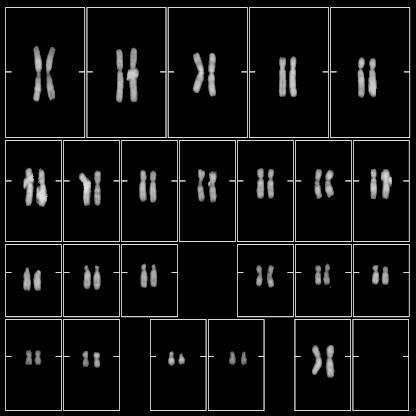1: (30, 41, 44, 106), (44, 41, 57, 106)
10: (266, 162, 278, 202), (254, 163, 266, 202)
11: (324, 162, 334, 204), (313, 164, 323, 204)
12: (380, 162, 392, 204), (369, 163, 378, 205)
13: (22, 264, 34, 294), (34, 264, 42, 294)
14: (81, 262, 93, 294), (93, 260, 104, 293)
15: (140, 260, 148, 292), (150, 260, 158, 292)
16: (254, 261, 263, 292), (266, 261, 274, 292)
17: (314, 262, 323, 290), (323, 262, 332, 290)
18: (380, 261, 391, 291), (370, 261, 380, 290)
19: (23, 346, 34, 368), (35, 346, 46, 368)
2: (127, 45, 138, 107), (114, 46, 124, 108)
20: (90, 347, 102, 372), (80, 347, 91, 372)
21: (166, 346, 176, 370), (177, 346, 187, 370)
22: (226, 345, 238, 370), (238, 345, 249, 370)
3: (192, 49, 204, 98), (206, 49, 218, 98)
4: (288, 52, 300, 104), (278, 51, 288, 102)
5: (355, 53, 367, 102), (366, 53, 378, 102)
6: (22, 165, 36, 209), (35, 165, 48, 209)
7: (78, 168, 92, 210), (92, 167, 106, 209)
8: (148, 166, 158, 205), (138, 166, 147, 206)
9: (196, 167, 206, 206), (206, 167, 216, 206)
X: (310, 342, 324, 382), (323, 342, 336, 382)
